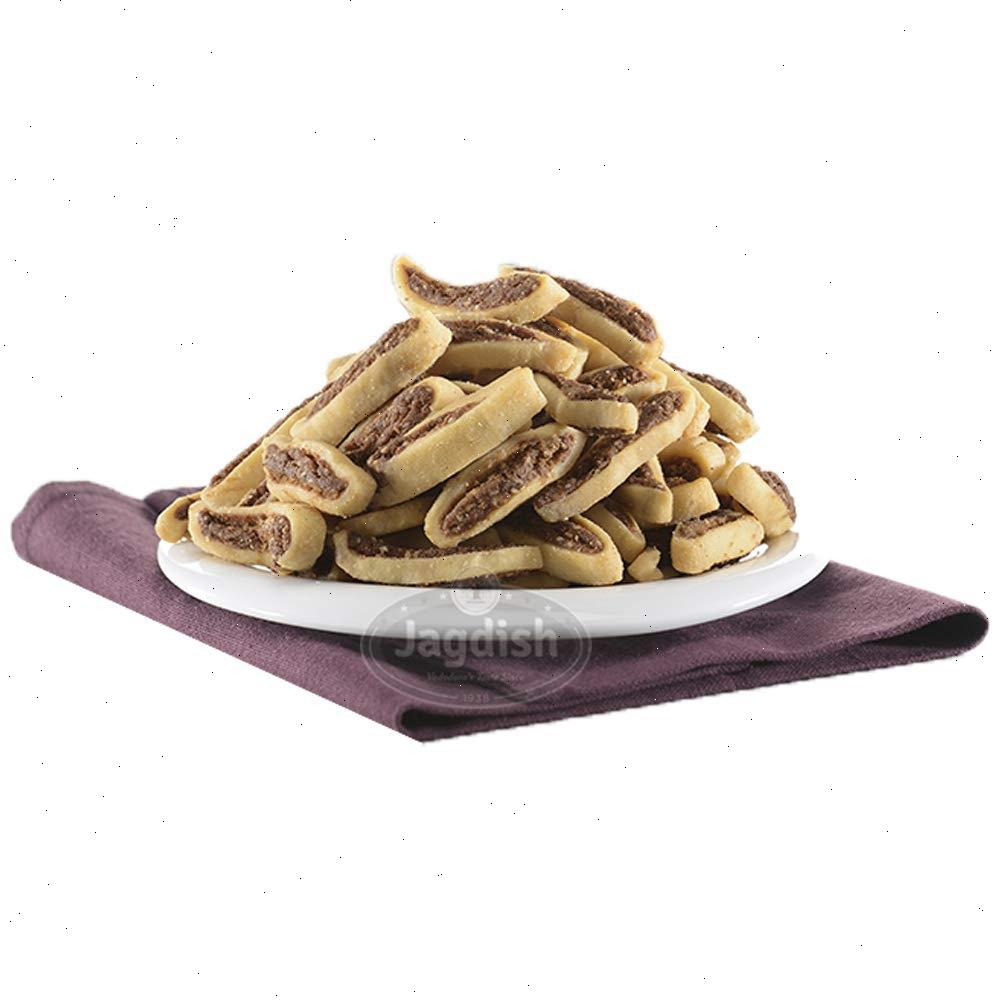bhakarwadi: (150, 252, 814, 588)
